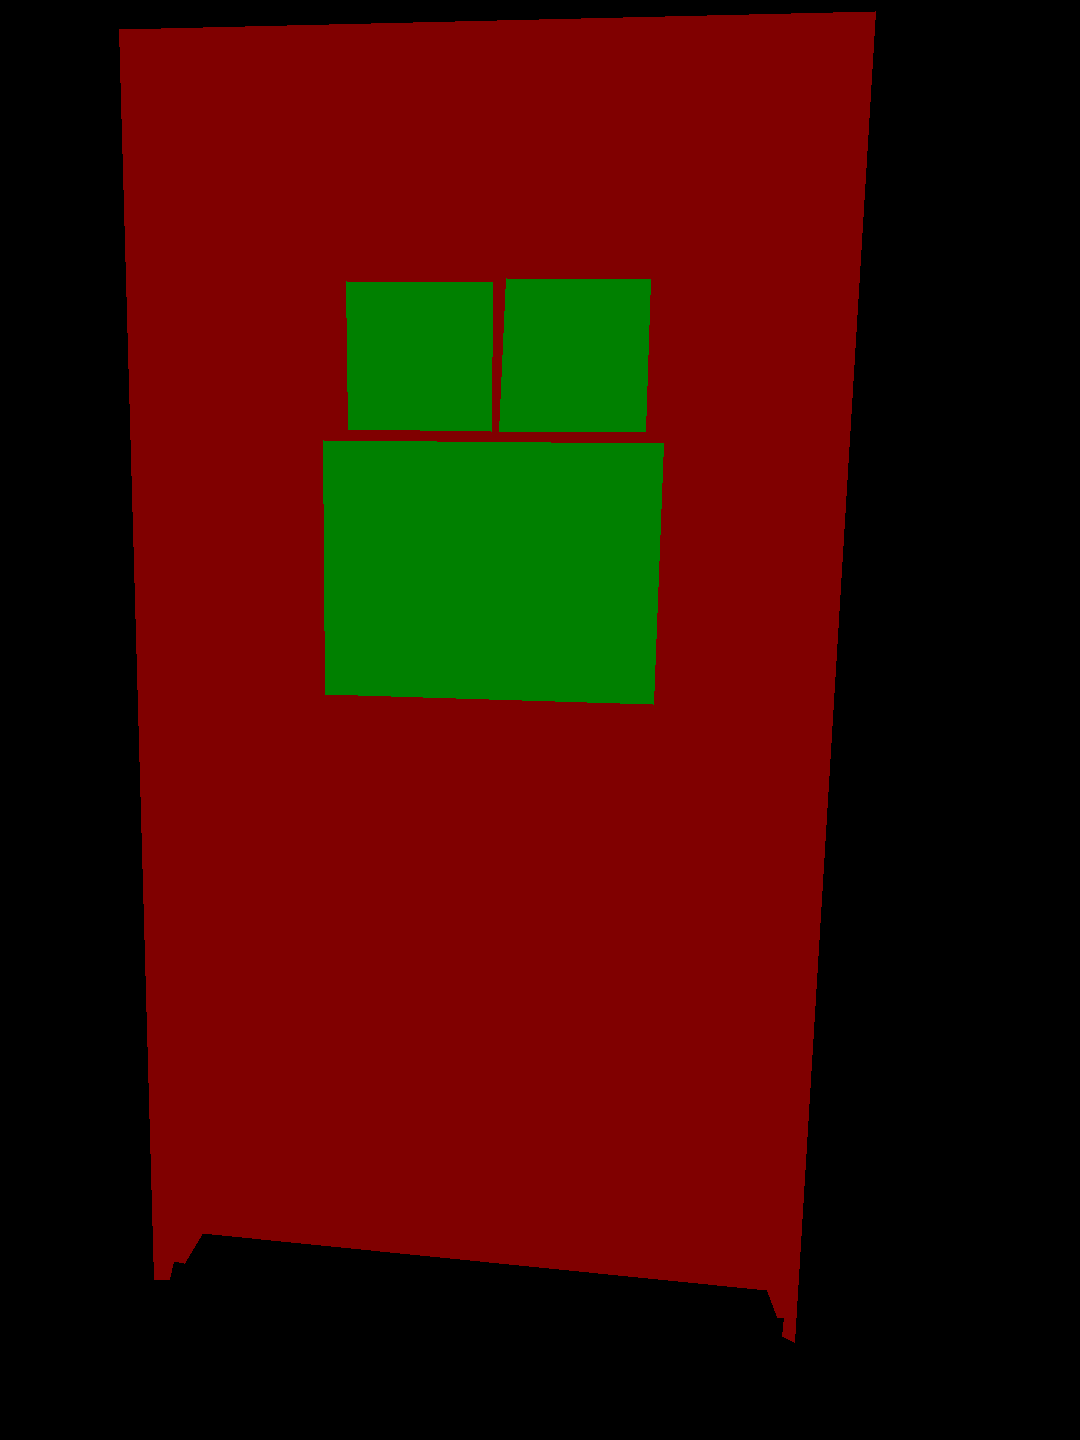door: (119, 11, 875, 1342)
sign: (323, 440, 663, 704), (499, 278, 650, 431), (346, 281, 492, 431)
